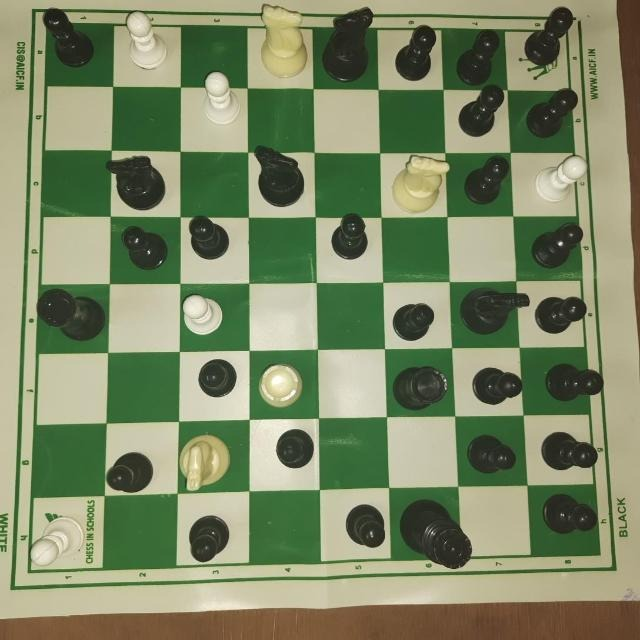black-knight: (314, 2, 375, 86), (453, 279, 530, 343), (246, 141, 315, 211), (104, 144, 172, 214)
black-pawn: (514, 4, 582, 74), (36, 7, 100, 71), (460, 358, 529, 416), (449, 27, 508, 86), (522, 90, 587, 142), (527, 219, 589, 273), (453, 85, 508, 145), (537, 488, 598, 542), (534, 425, 598, 475), (388, 23, 440, 84), (460, 149, 512, 209), (541, 359, 602, 409), (100, 446, 162, 495), (115, 225, 173, 277), (530, 287, 594, 334), (461, 429, 519, 479), (386, 296, 447, 343), (323, 210, 375, 264), (181, 511, 231, 566), (182, 211, 235, 261), (266, 425, 316, 476), (341, 500, 388, 554), (189, 356, 241, 404)
black-queen: (392, 491, 476, 571)
black-rook: (384, 354, 454, 418), (32, 286, 106, 341)
white-knight: (250, 2, 312, 79), (379, 152, 453, 216), (175, 422, 236, 496)
white-pawn: (20, 514, 92, 570), (112, 5, 170, 70), (530, 148, 594, 203), (193, 68, 243, 132), (177, 289, 229, 340)
white-rook: (255, 356, 305, 412)
